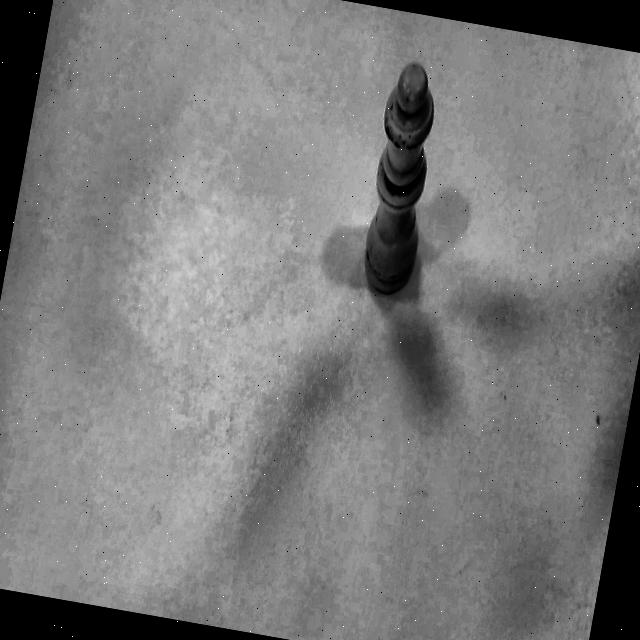white-queen: (345, 39, 457, 316)
